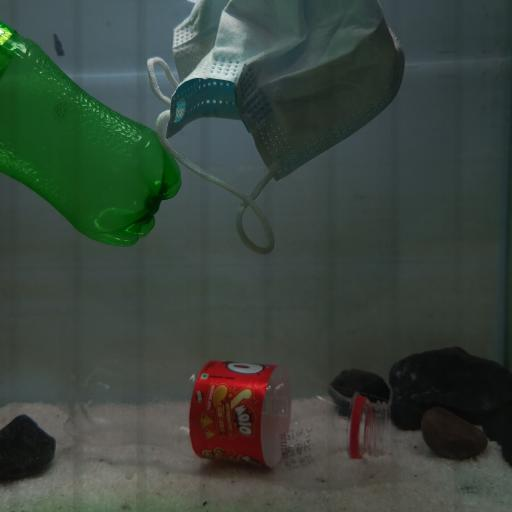mask: (147, 0, 406, 254)
plastic_bottle: (0, 21, 183, 248), (54, 354, 388, 470)
